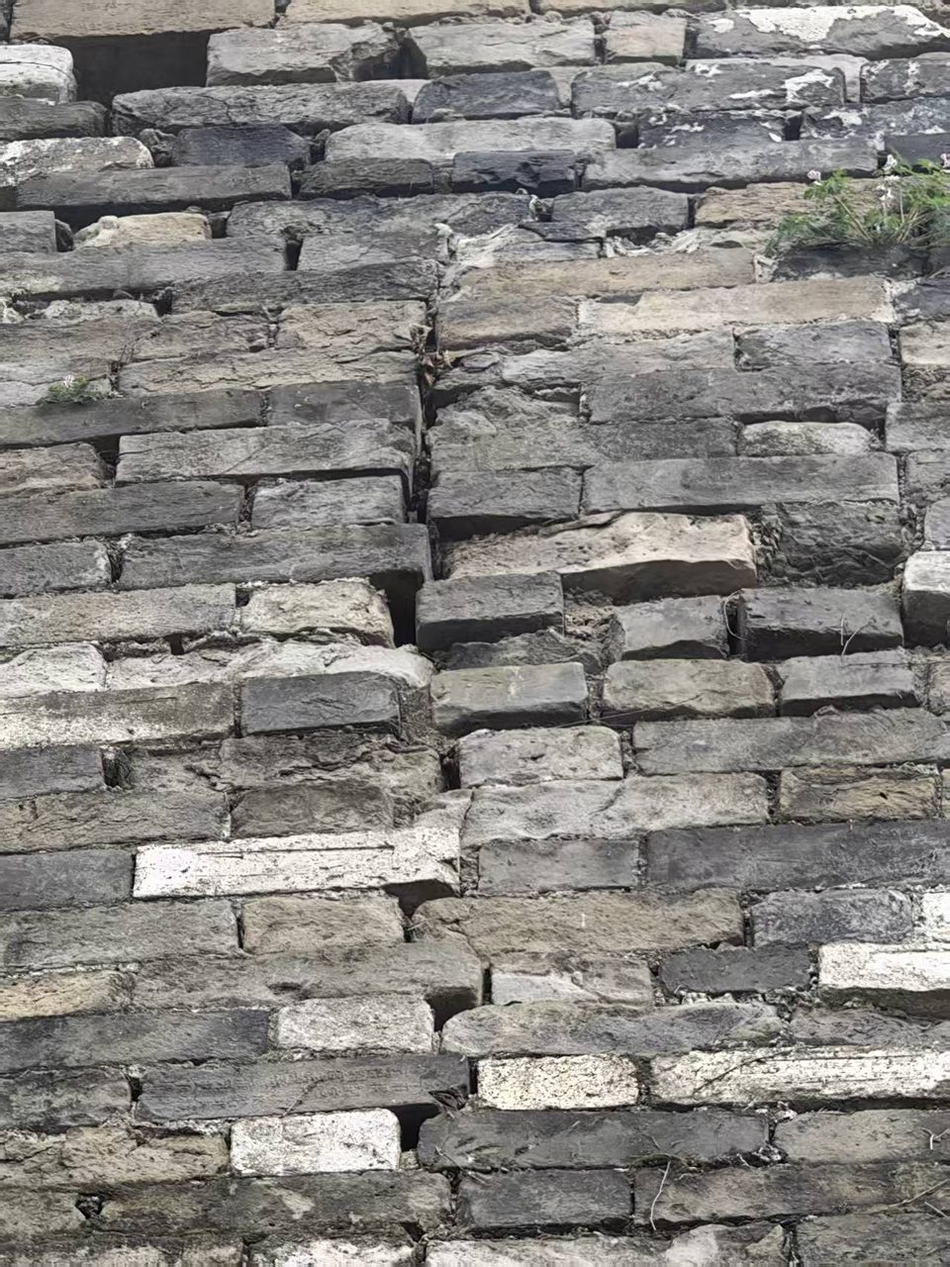crack: (371, 291, 529, 1192)
